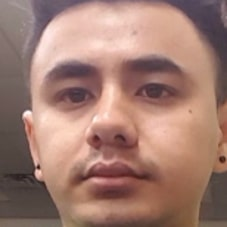awake: (37, 49, 193, 202)
